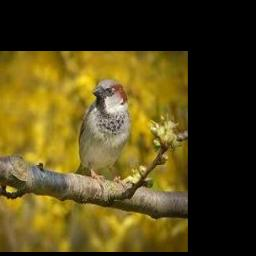Sparrow: (74, 79, 131, 182)
